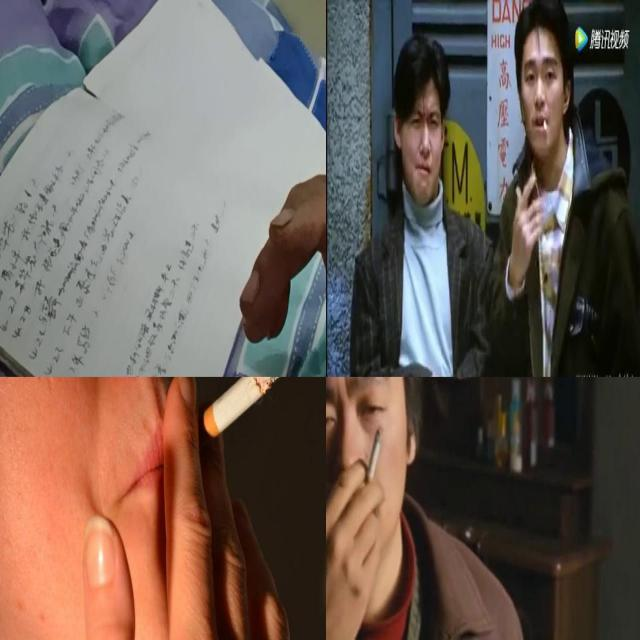smoke: (194, 376, 296, 454), (364, 422, 386, 494), (540, 111, 550, 134)
